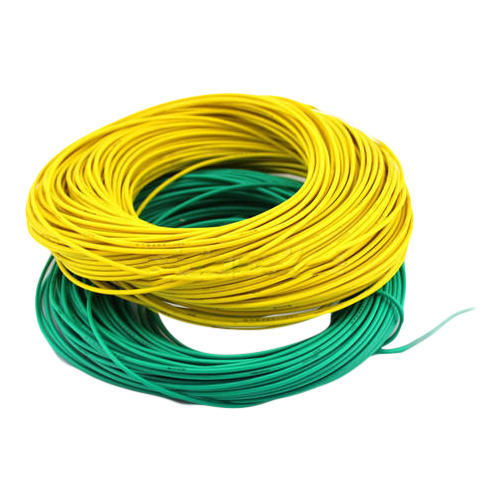Nonrec_Tangler: (5, 88, 475, 404)
